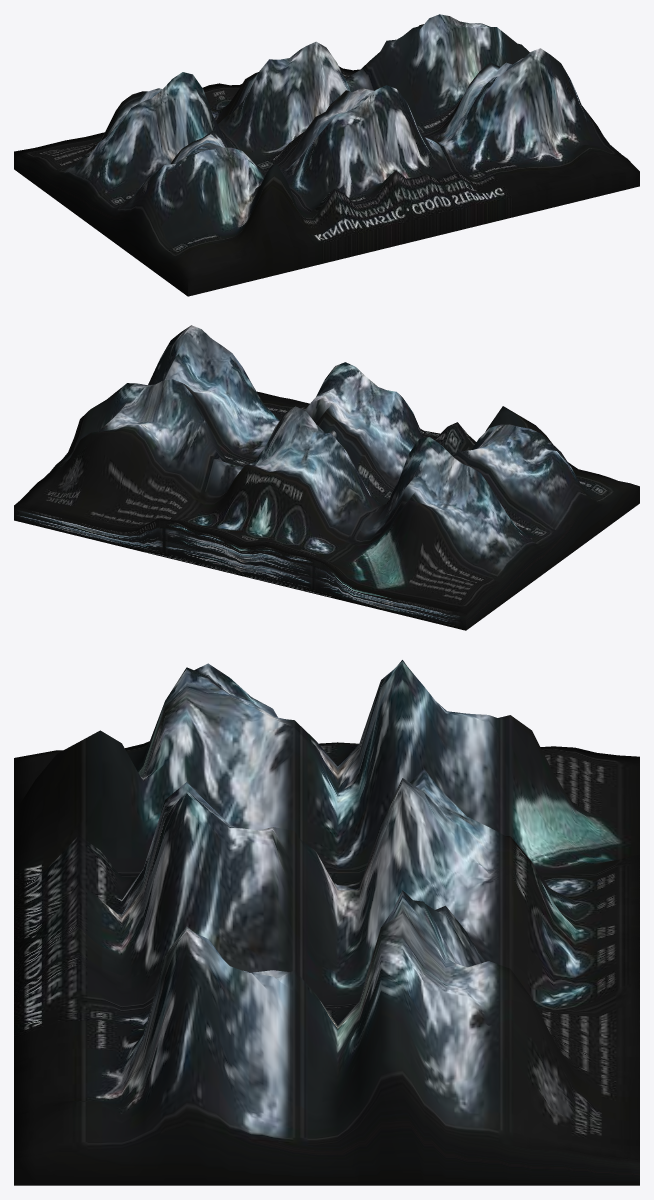
Rendered from CUL_46_Kunlun_Mystic.glb.
3 renders of one model, top to bottom at view 1: azimuth 30°, elevation 25°; view 2: azimuth 150°, elevation 25°; view 3: azimuth 270°, elevation 25°, orthographic. The views are drawn at different scales.
Visible parts, largest first — view 1: CUL_46_Kunlun_Mystic; view 2: CUL_46_Kunlun_Mystic; view 3: CUL_46_Kunlun_Mystic.
Boxes of the visible parts, bbox=[...] form: CUL_46_Kunlun_Mystic: bbox=[14, 14, 639, 296]; CUL_46_Kunlun_Mystic: bbox=[14, 325, 639, 630]; CUL_46_Kunlun_Mystic: bbox=[14, 660, 639, 1185].
Bounding box in the file's own units: 2 × 0.51 × 1.33.
1 material, 1 textured.
